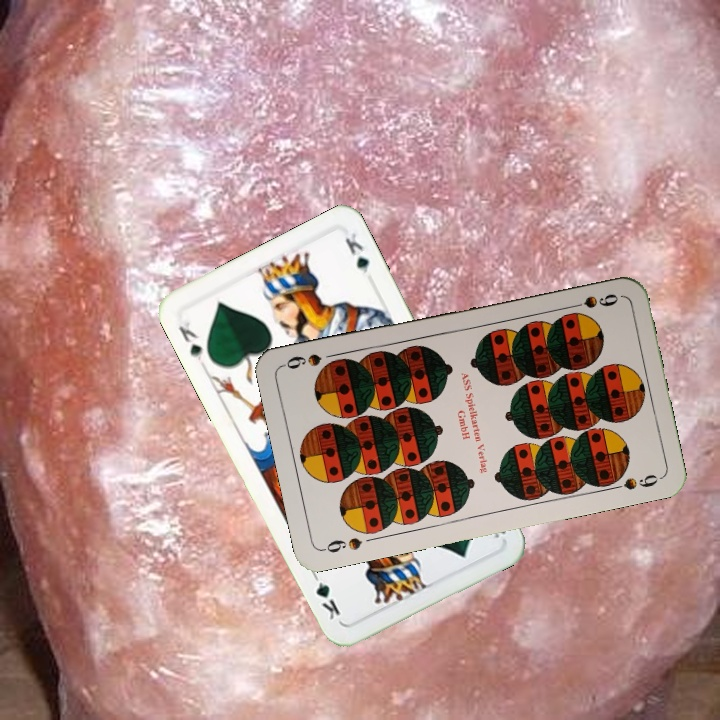GK: (174, 317, 205, 363)
S9: (563, 289, 621, 312), (318, 533, 364, 556)
